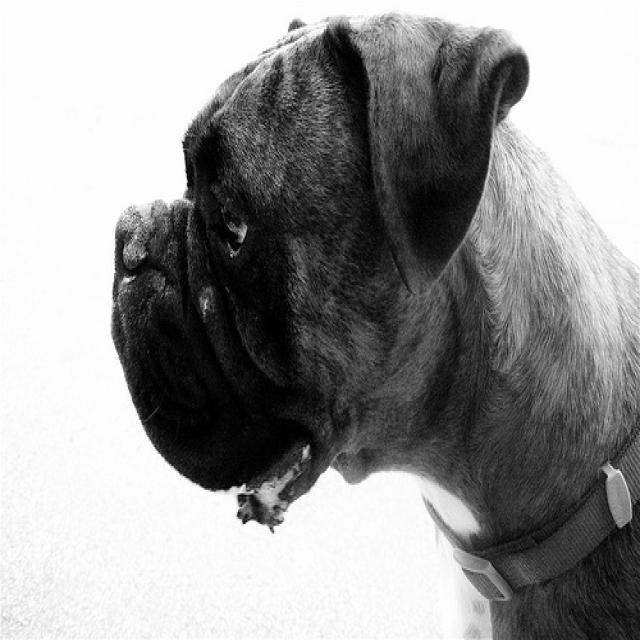dog-boxer: (105, 10, 637, 637)
